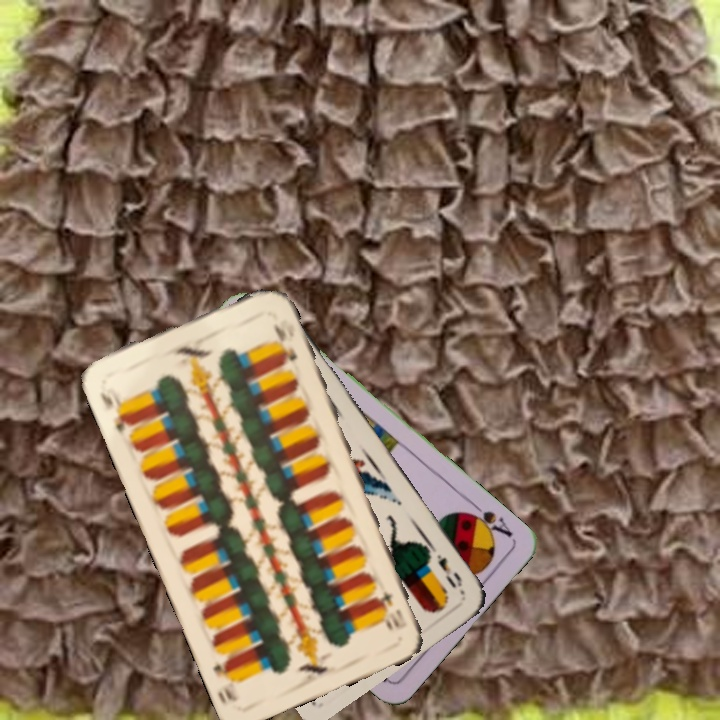E10: (95, 388, 134, 436), (378, 586, 409, 632)
EO: (432, 550, 465, 591)
SA: (460, 497, 515, 542)
